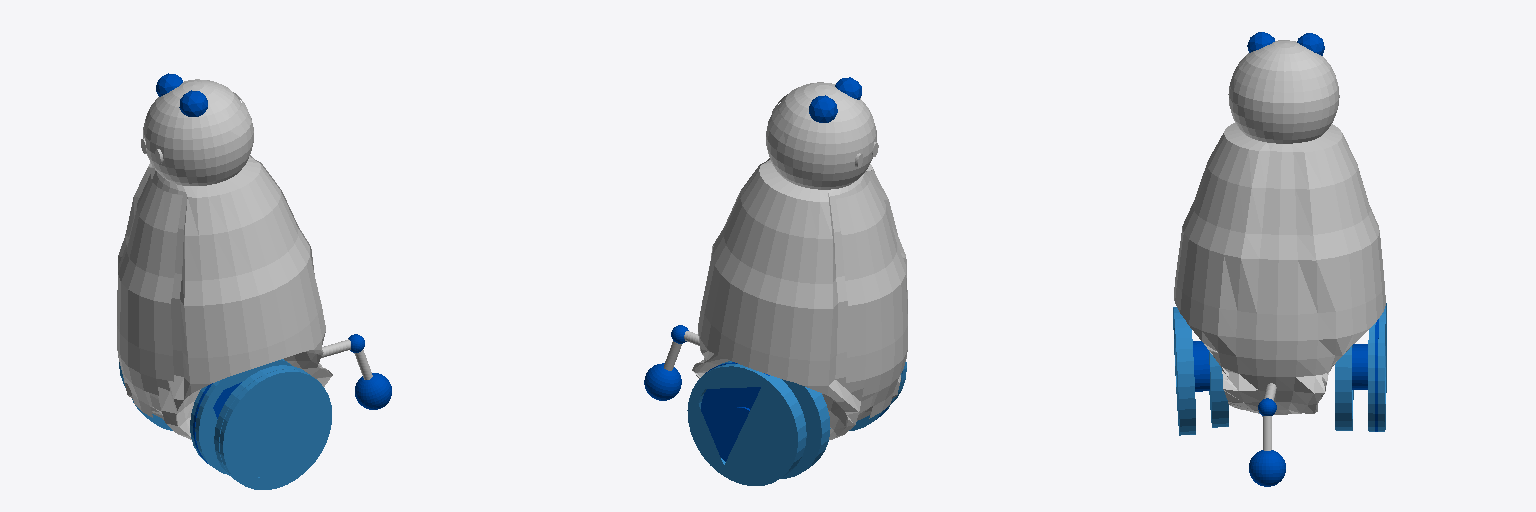
Rendered from robot_without.obj.
3 views of the same model, side by side, from view 1: azimuth 30°, elevation 25°; view 2: azimuth 150°, elevation 25°; view 3: azimuth 270°, elevation 25° (orthographic).
Parts seen in each view (by area): view 1: Cylinder.009_Cylinder.085, Cylinder.007_Cylinder.073, Cylinder.002_Cylinder.082, Cylinder.013_Cylinder.003; view 2: Cylinder.009_Cylinder.085, Wheel_part1.002_Cylinder.068, Cylinder.002_Cylinder.082, Cylinder.013_Cylinder.003; view 3: Cylinder.009_Cylinder.085, Cylinder.003_Cylinder.083, Cylinder.013_Cylinder.003, Wheel_part1.002_Cylinder.068, Cylinder.007_Cylinder.073, Cylinder.008_Cylinder.080.
Boxes of the visible parts, box(x1,y1,x2,y2) form: Cylinder.009_Cylinder.085: box(118, 156, 391, 439); Cylinder.007_Cylinder.073: box(190, 359, 331, 489); Cylinder.002_Cylinder.082: box(117, 174, 182, 417); Cylinder.013_Cylinder.003: box(143, 73, 253, 185); Cylinder.009_Cylinder.085: box(644, 160, 907, 439); Wheel_part1.002_Cylinder.068: box(687, 361, 830, 485); Cylinder.002_Cylinder.082: box(836, 175, 907, 418); Cylinder.013_Cylinder.003: box(766, 77, 876, 189); Cylinder.009_Cylinder.085: box(1174, 122, 1385, 486); Cylinder.003_Cylinder.083: box(1237, 152, 1317, 314); Cylinder.013_Cylinder.003: box(1228, 32, 1339, 143); Wheel_part1.002_Cylinder.068: box(1335, 303, 1386, 431); Cylinder.007_Cylinder.073: box(1173, 307, 1228, 435); Cylinder.008_Cylinder.080: box(1237, 72, 1330, 92).
Size of the model in its own units: 2.75 by 3.89 by 2.